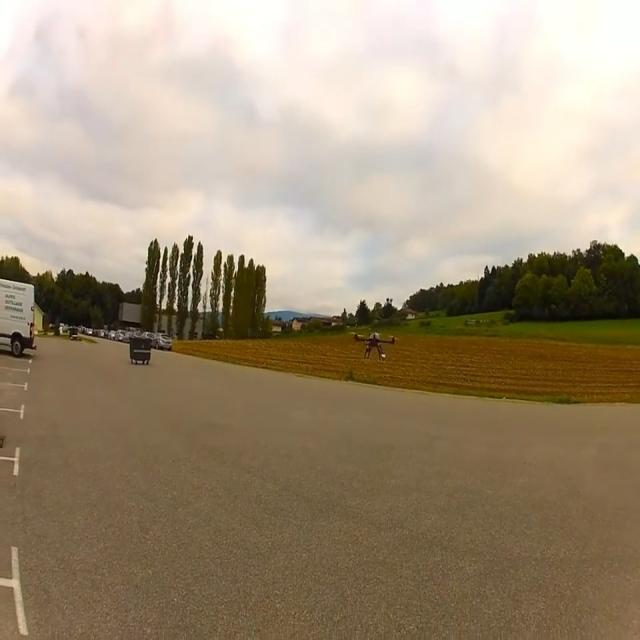drone: (353, 331, 395, 361)
